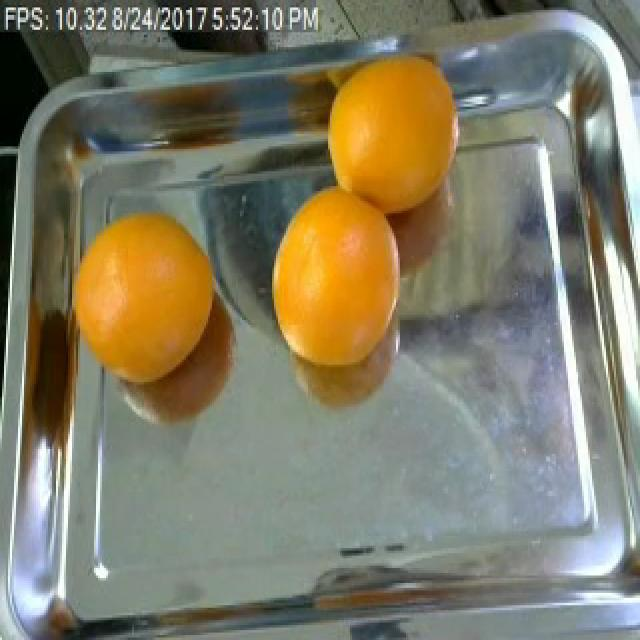Fruit: (252, 166, 416, 380), (306, 27, 472, 236), (70, 189, 222, 414)
